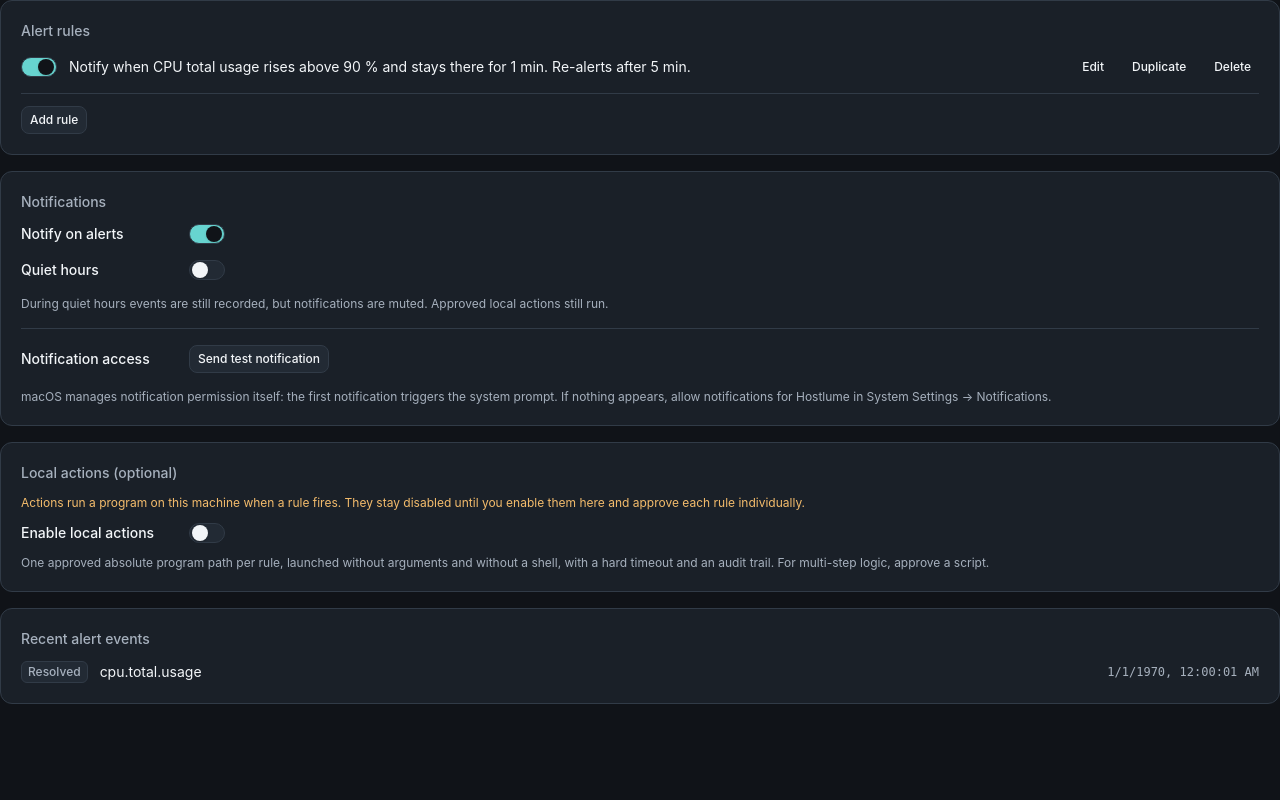
Scenario: AlertsSection › runs the fixture probe without persisting anything
Click the button "Add rule". click: (54, 120)
box: [21, 106, 87, 134]
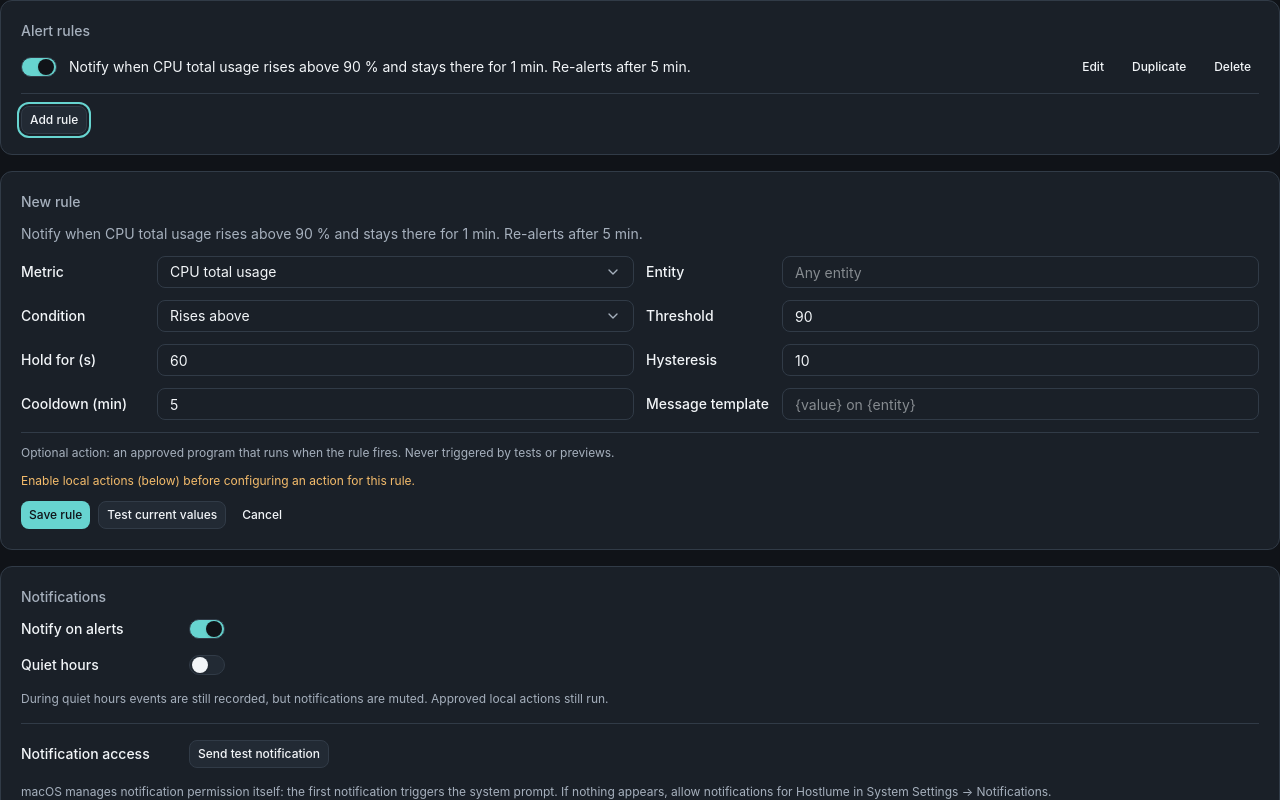
Click the button "Test current values". click: (162, 515)
box: [98, 501, 226, 529]
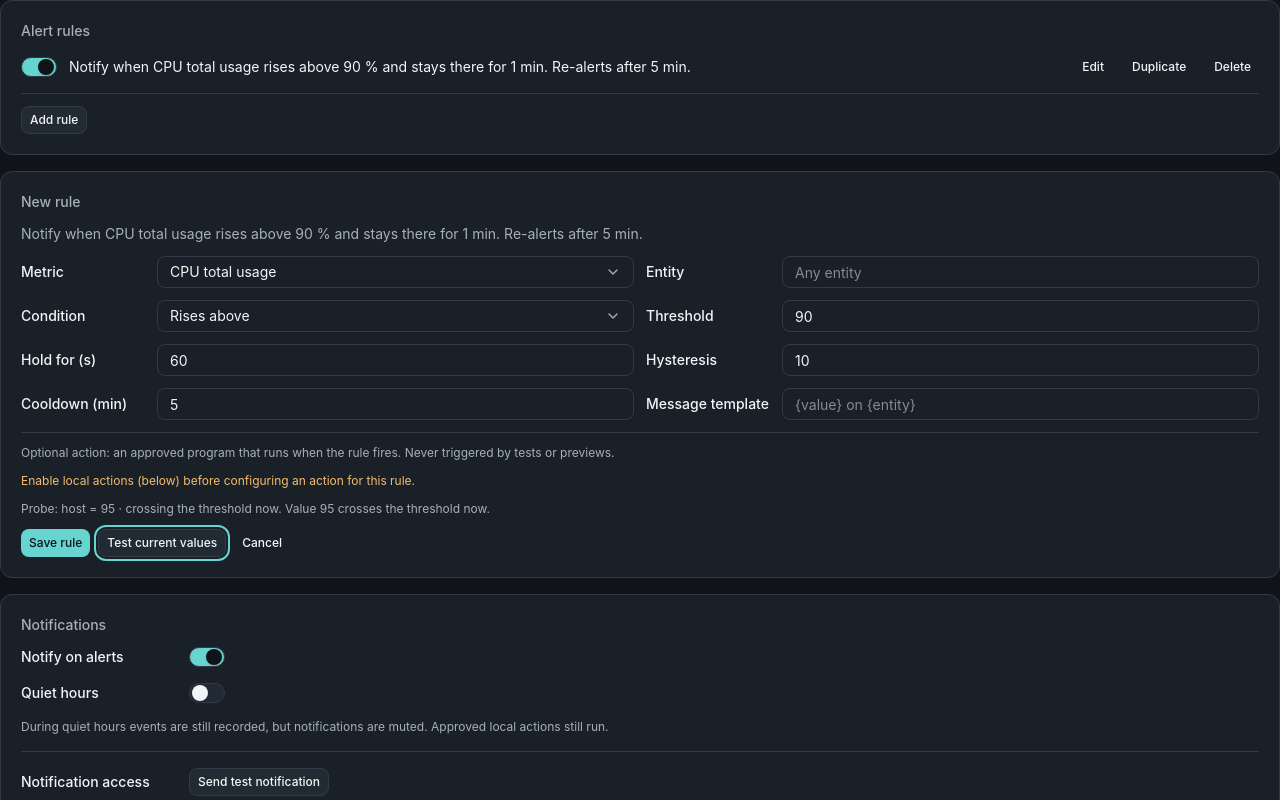
Check: the text "Probe: host = 95" is shown, box [21, 501, 490, 516]
